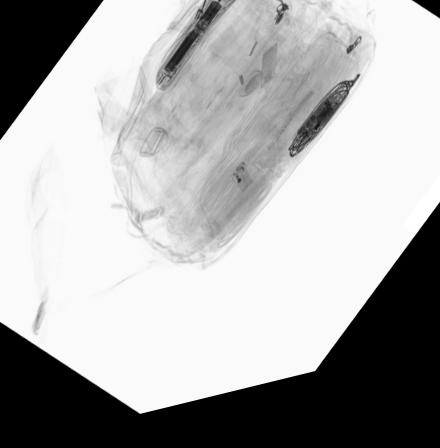Lighter: (228, 172, 253, 206)
